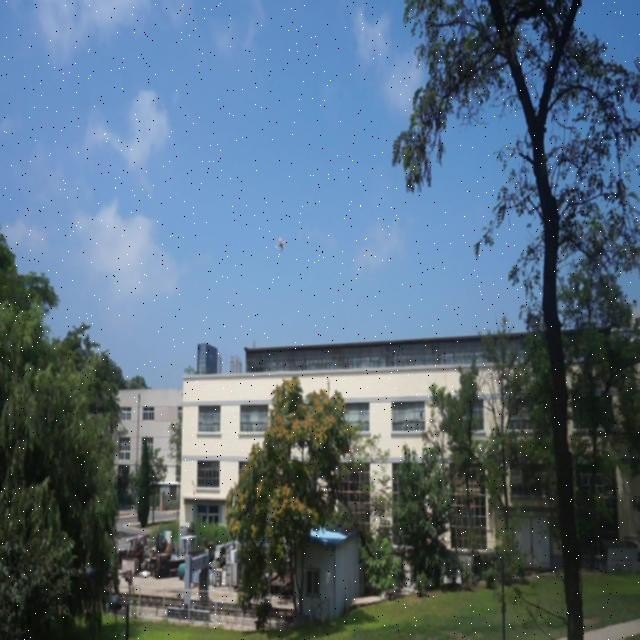UAV: (274, 237, 286, 251)
